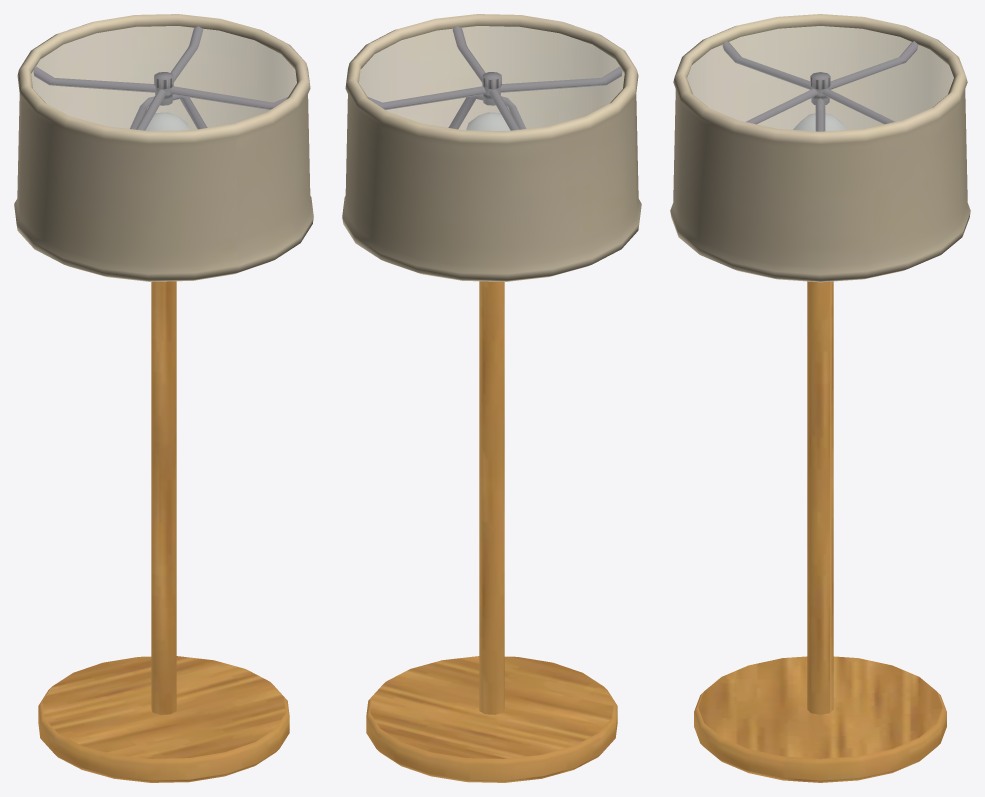
3 renders of one model, left to right at view 1: azimuth 30°, elevation 25°; view 2: azimuth 150°, elevation 25°; view 3: azimuth 270°, elevation 25°, orthographic.
Size of the model in its own units: 6.27 by 15.12 by 6.25.
Materials: 2 (2 with a texture image).
